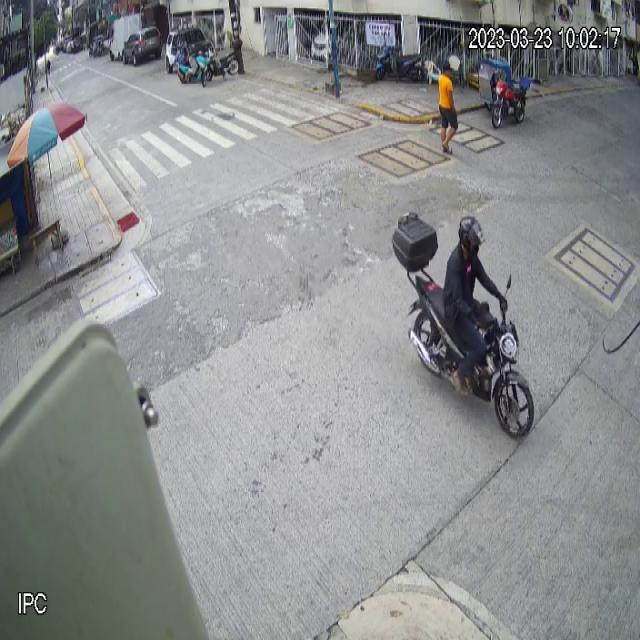Motorcycle: (391, 210, 534, 438)
Tricycle: (476, 56, 531, 128)
